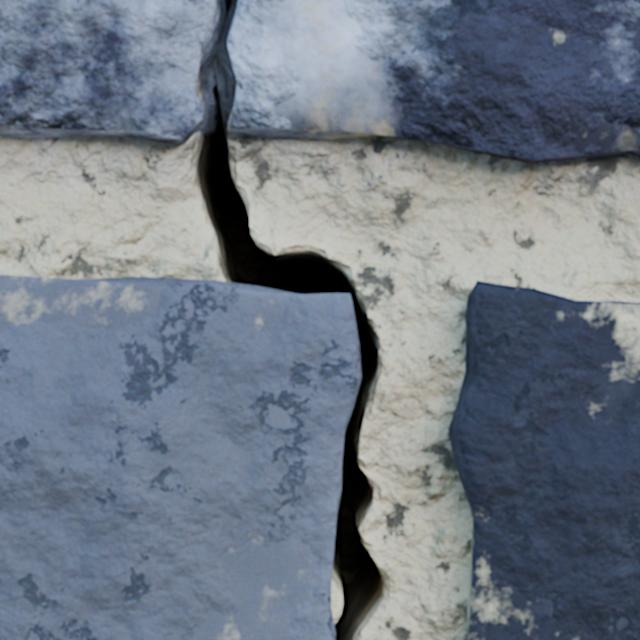broken_brick: (228, 0, 639, 162), (0, 0, 211, 144)
crack: (0, 0, 389, 639), (449, 281, 639, 639)
